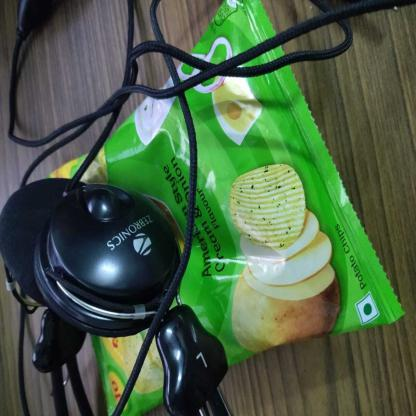cream_and_onion: (55, 2, 404, 406)
